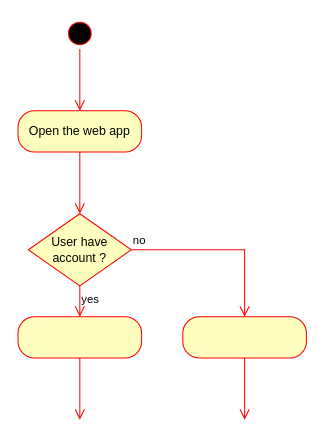
Some shapes in this 324 by 448 pixel diagram are drawn without their labels. The shapes that lost their labels are listed below. From the top down, each one's centre as x and y in pixels, then its label:
At [79,337]: "Login".
At [244,337]: "Register".
